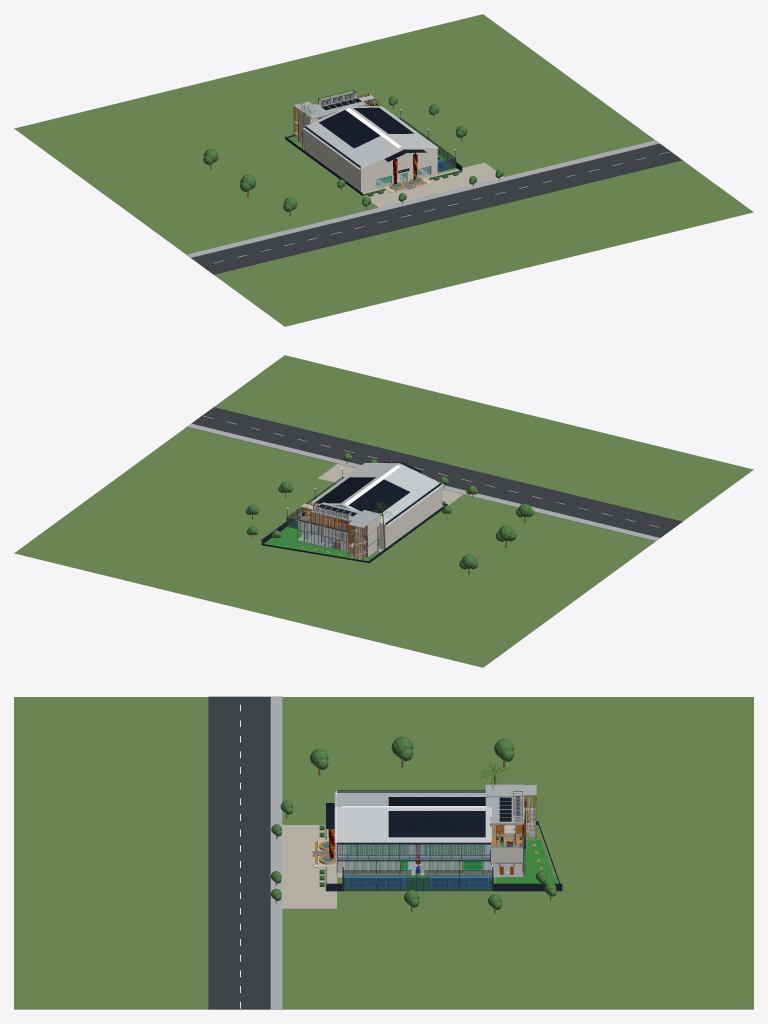
Rendered from MyPlace_Master_vR54.dae.
3 views of the same model, one above another, from view 1: azimuth 30°, elevation 25°; view 2: azimuth 150°, elevation 25°; view 3: azimuth 270°, elevation 25° (orthographic). The views are drawn at different scales.
Visible parts, largest first — view 1: site__grass, site__asphalt, hall_shell__plaster, hall_roof__roofSheet, site__concrete, hall_roof__solar, site__paving, trees__treeCrown, rear_roof__concrete; view 2: site__grass, site__asphalt, hall_roof__roofSheet, site__concrete, hall_roof__solar, hall_shell__plaster, trees__treeCrown, outdoor__turf, fences__charcoal, site__paving, rear_roof__concrete; view 3: site__grass, site__asphalt, hall_roof__roofSheet, site__paving, site__concrete, hall_roof__solar, outdoor__mat_1f2937, hall_shell__glass, trees__treeCrown, hall_interior__court, outdoor__pickleTex, east_catwalk__louvre (+11 smaller).
Boxes of the visible parts, left/top/right/bottom form: site__grass: left=14, top=14, right=753, bottom=326; site__asphalt: left=191, top=143, right=682, bottom=274; hall_shell__plaster: left=304, top=106, right=437, bottom=192; hall_roof__roofSheet: left=303, top=106, right=438, bottom=169; site__concrete: left=187, top=140, right=659, bottom=257; hall_roof__solar: left=319, top=107, right=413, bottom=148; site__paving: left=362, top=162, right=503, bottom=207; trees__treeCrown: left=203, top=96, right=503, bottom=211; rear_roof__concrete: left=293, top=96, right=366, bottom=119; site__grass: left=14, top=355, right=753, bottom=667; site__asphalt: left=191, top=407, right=682, bottom=537; hall_roof__roofSheet: left=308, top=463, right=443, bottom=526; site__concrete: left=186, top=423, right=659, bottom=551; hall_roof__solar: left=314, top=477, right=409, bottom=513; hall_shell__plaster: left=310, top=463, right=442, bottom=549; trees__treeCrown: left=245, top=452, right=533, bottom=569; outdoor__turf: left=264, top=527, right=371, bottom=561; fences__charcoal: left=261, top=503, right=447, bottom=562; site__paving: left=318, top=464, right=462, bottom=506; rear_roof__concrete: left=311, top=502, right=381, bottom=528; site__grass: left=14, top=697, right=753, bottom=1009; site__asphalt: left=208, top=696, right=270, bottom=1009; hall_roof__roofSheet: left=334, top=792, right=490, bottom=842; site__paving: left=282, top=825, right=494, bottom=908; site__concrete: left=270, top=696, right=499, bottom=1009; hall_roof__solar: left=388, top=797, right=485, bottom=837; outdoor__mat_1f2937: left=342, top=870, right=493, bottom=890; hall_shell__glass: left=337, top=844, right=490, bottom=859; trees__treeCrown: left=270, top=736, right=556, bottom=909; hall_interior__court: left=346, top=845, right=485, bottom=870; outdoor__pickleTex: left=345, top=876, right=490, bottom=888; east_catwalk__louvre: left=337, top=845, right=485, bottom=854.
Size of the model in its own units: 160 by 160 by 16.22.
72 materials, 6 textured.
